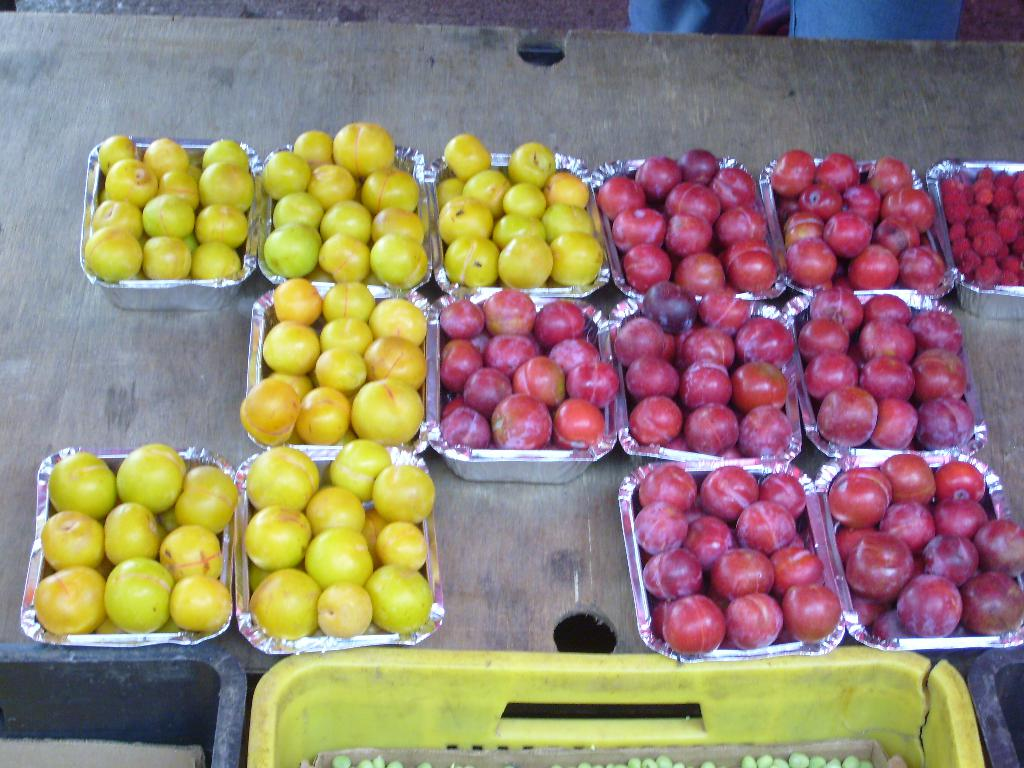Apple: (663, 589, 727, 650)
